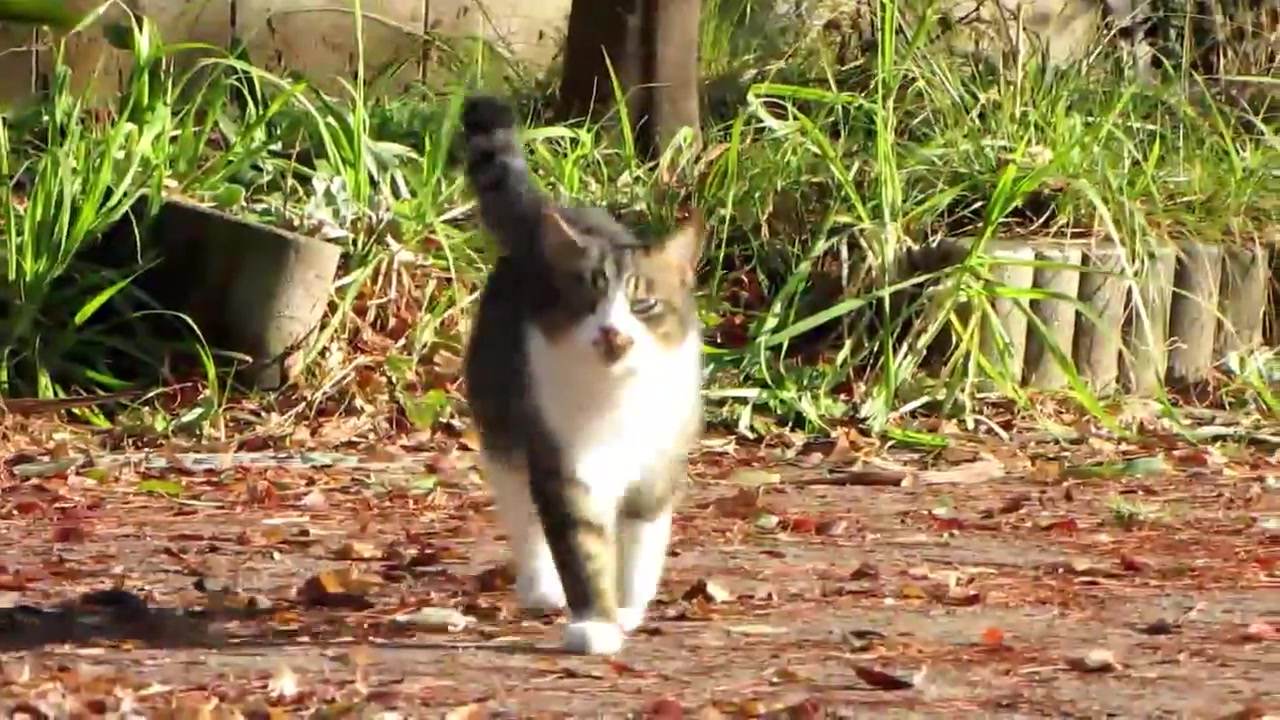cat: (461, 94, 712, 659)
